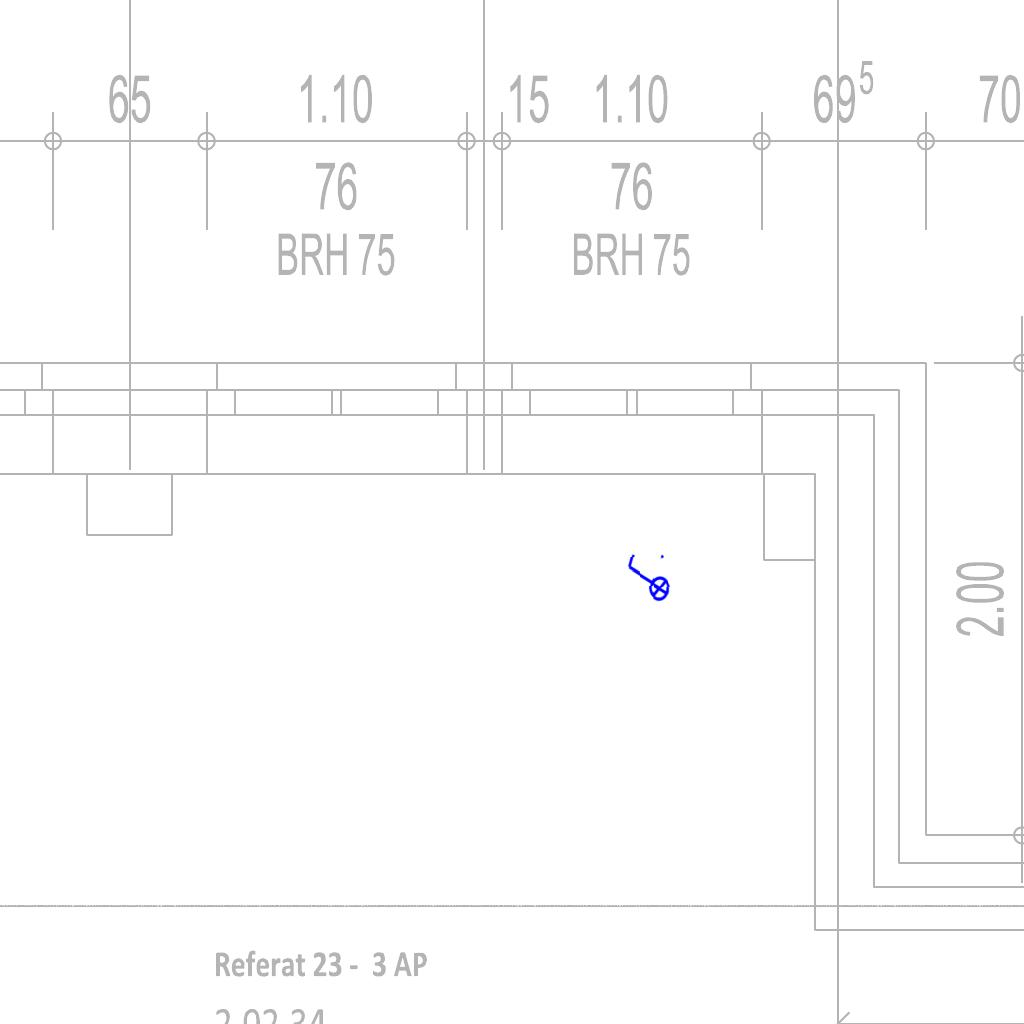Ausschalter_beleuchtet: (621, 549, 673, 609)
